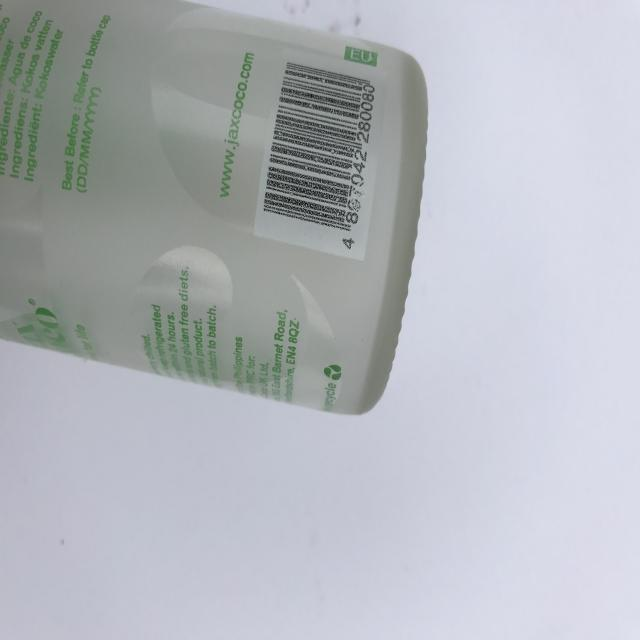Glass: (0, 0, 431, 426)
